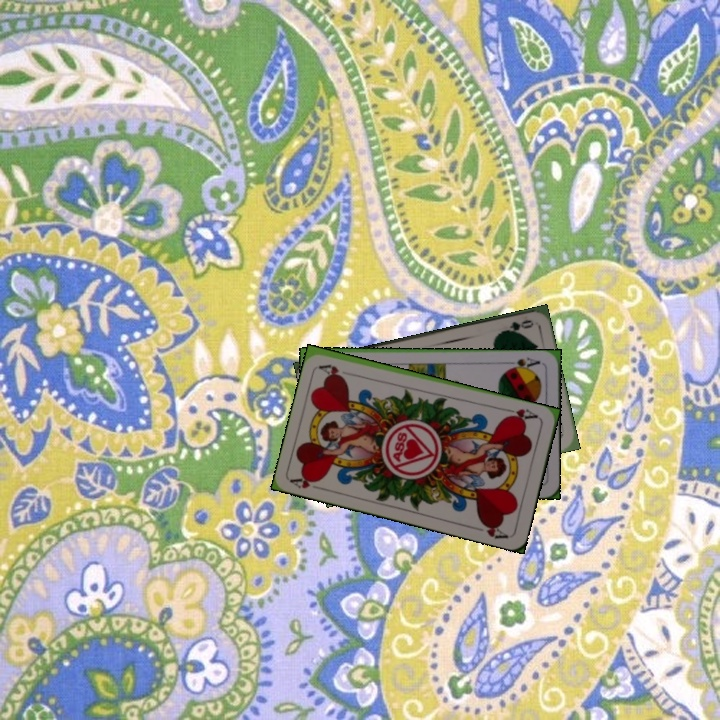GO: (495, 316, 535, 336)
HA: (288, 471, 328, 493), (501, 404, 540, 424)
SA: (503, 354, 543, 373)
